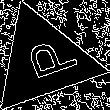P_W: (12, 34, 75, 87)
